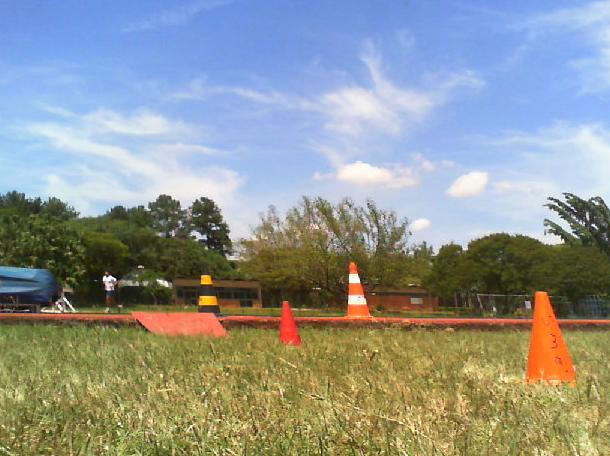0 cone: (527, 292, 574, 385), (345, 262, 373, 318), (195, 264, 223, 316), (277, 301, 301, 346)
